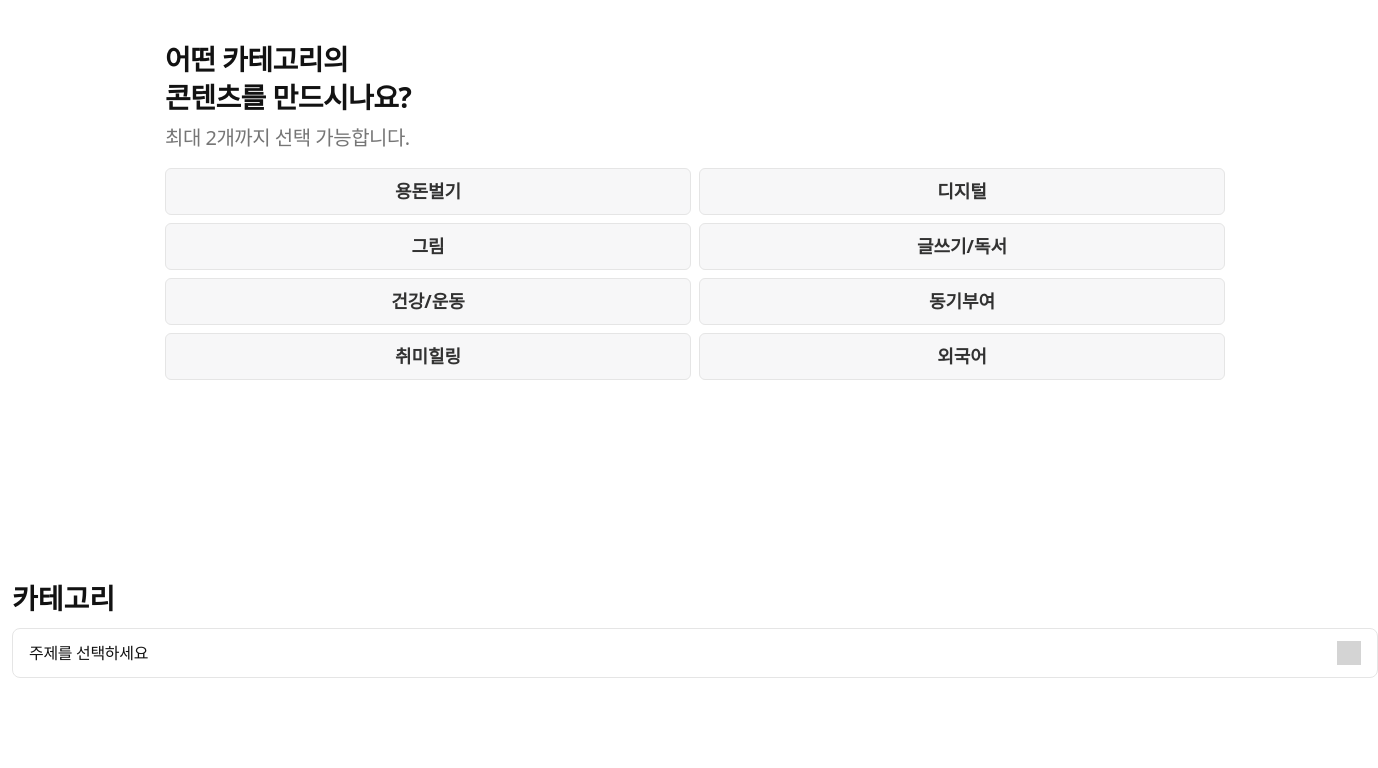
Test: CategorySelectPage 통합 테스트 › 메인 화면 연동 › 여러 카테고리를 선택하면 CategorySelector에 모두 반영되어야 한다
The width and height of the screenshot is (1378, 768).
Click the button with aria-label "용돈벌기 카테고리 선택": x=428, y=192 [165, 168, 691, 215]
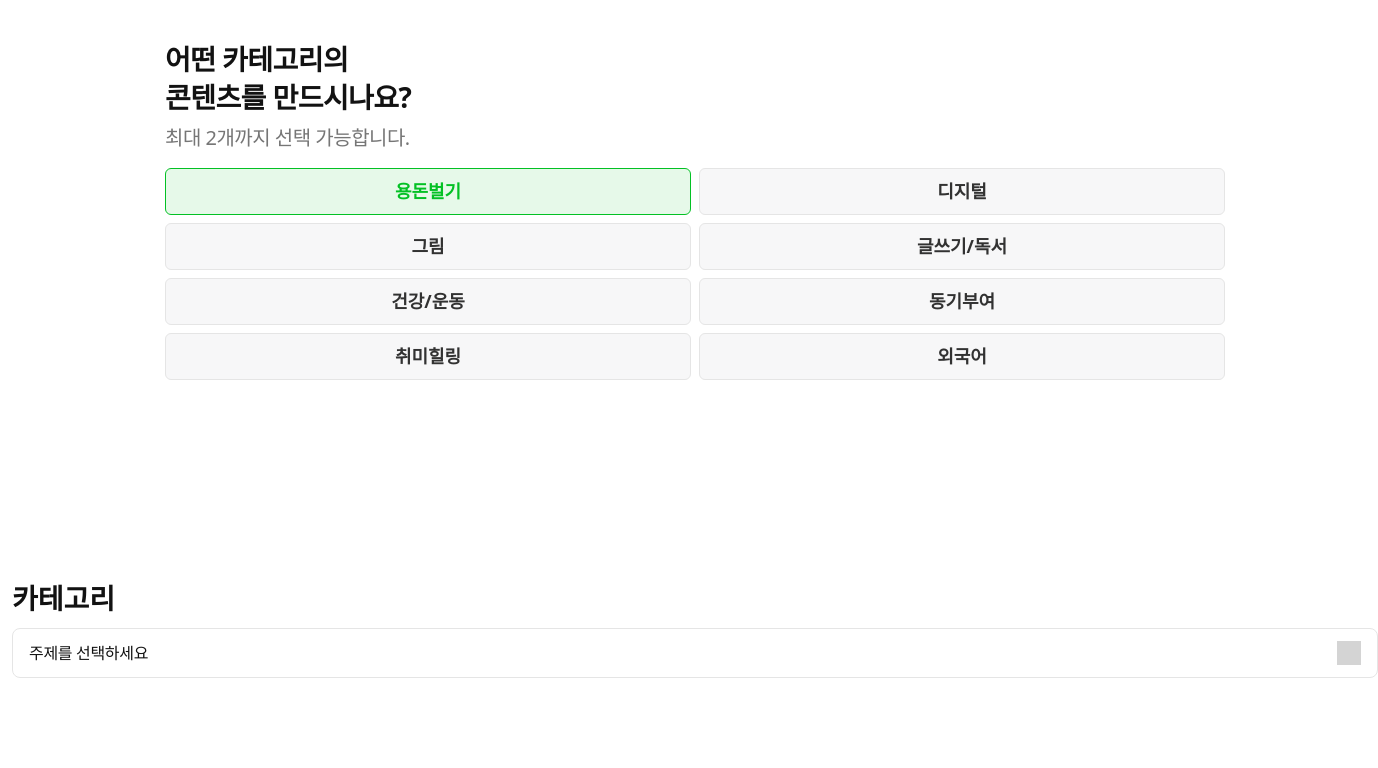
Click the button with aria-label "디지털 카테고리 선택": x=962, y=192 [699, 168, 1225, 215]
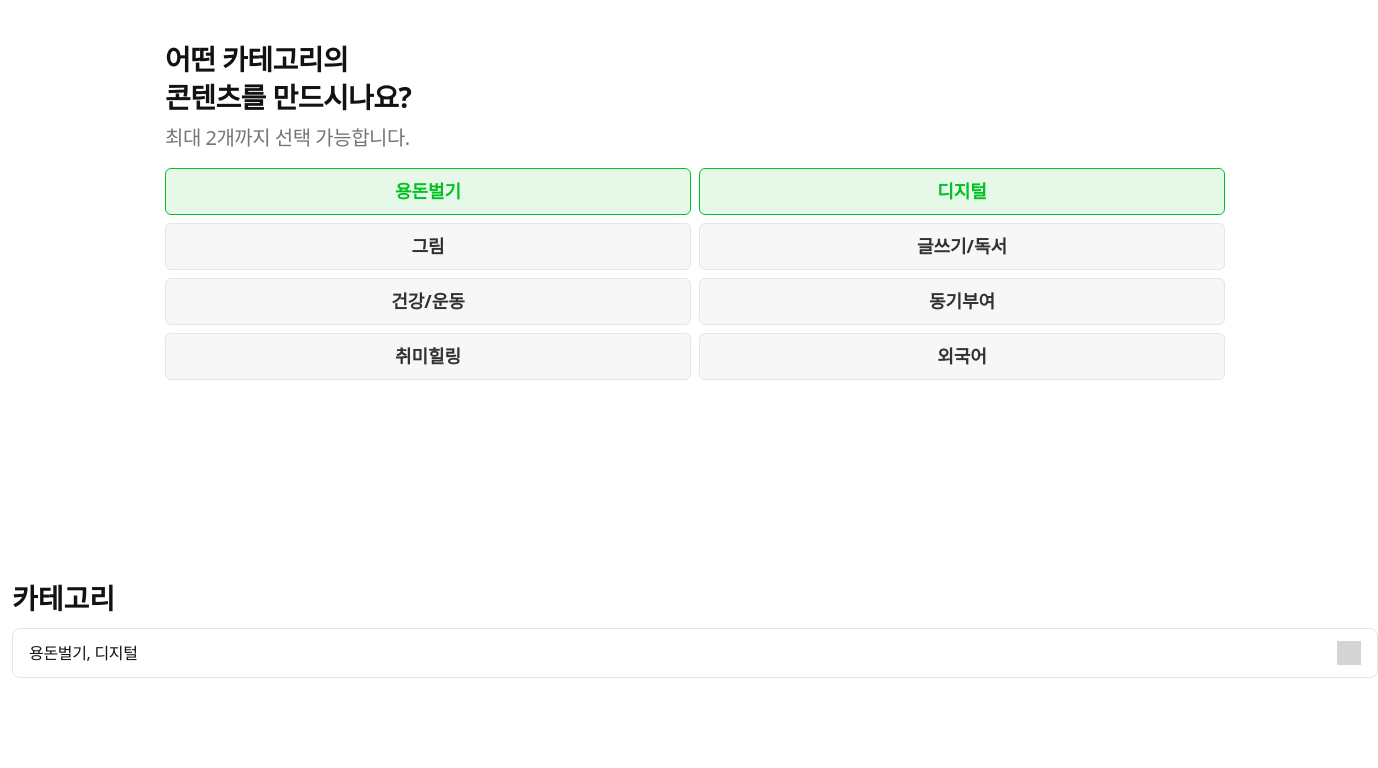
Expected: the link reads "용돈벌기, 디지털", [12, 628, 1377, 678]
